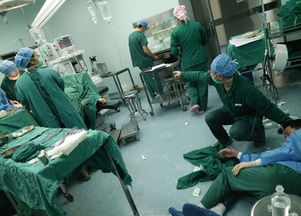fall: (161, 112, 301, 216)
